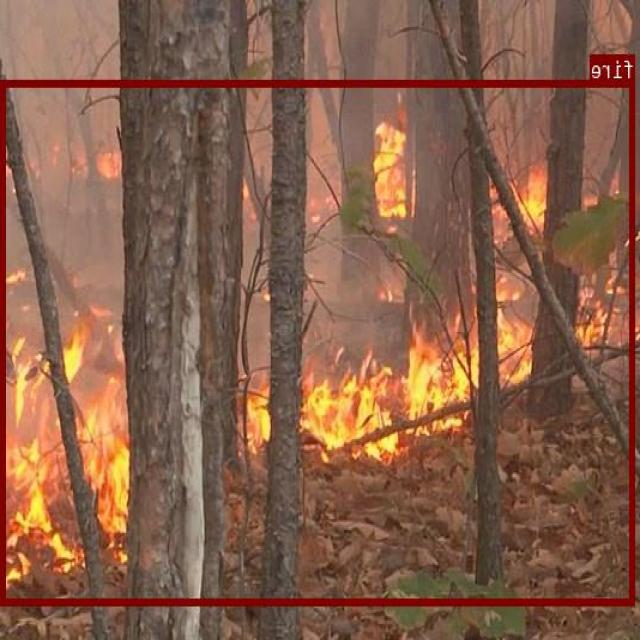fire: (2, 80, 636, 603)
